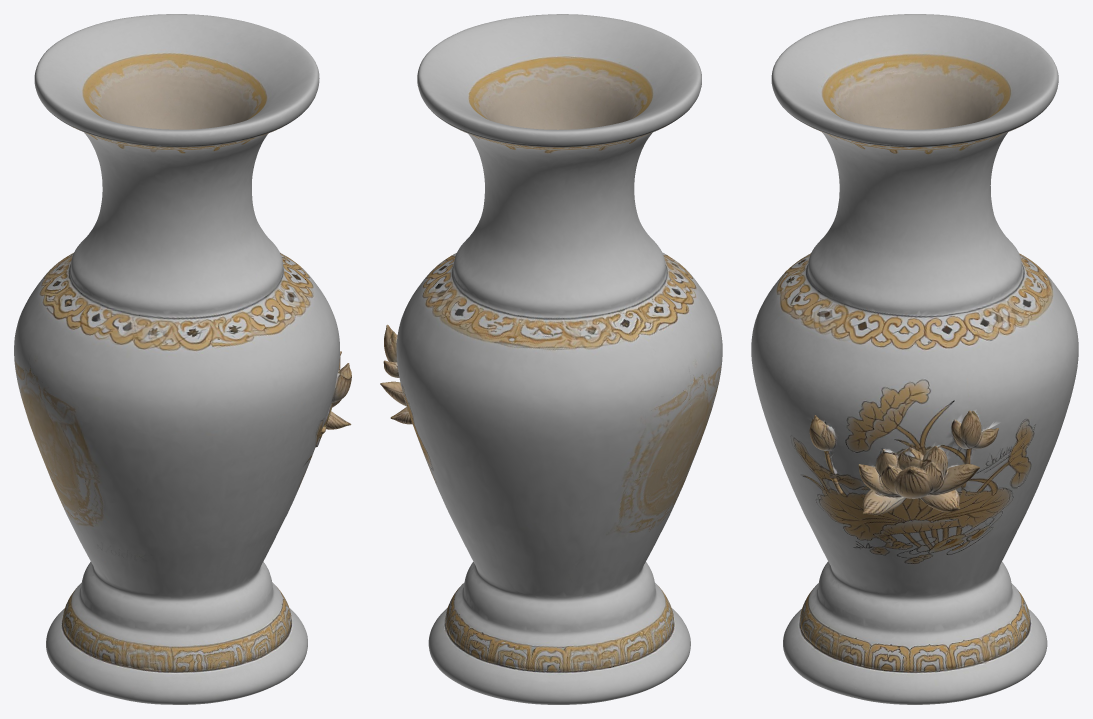
File: porcelain vase 3d model (1).glb
3 views of the same model, side by side, from view 1: azimuth 30°, elevation 25°; view 2: azimuth 150°, elevation 25°; view 3: azimuth 270°, elevation 25° (orthographic).
Visible parts, largest first — view 1: tripo_node_9ec4b615-c4d4-47d1-80a0-aca549285336; view 2: tripo_node_9ec4b615-c4d4-47d1-80a0-aca549285336; view 3: tripo_node_9ec4b615-c4d4-47d1-80a0-aca549285336.
Part boxes in pixels (bbox=[...]): tripo_node_9ec4b615-c4d4-47d1-80a0-aca549285336: bbox=[14, 14, 351, 704]; tripo_node_9ec4b615-c4d4-47d1-80a0-aca549285336: bbox=[380, 14, 722, 704]; tripo_node_9ec4b615-c4d4-47d1-80a0-aca549285336: bbox=[751, 14, 1078, 704].
Bounding box in the file's own units: 0.5484 × 1 × 0.5103.
1 material, 1 textured.
